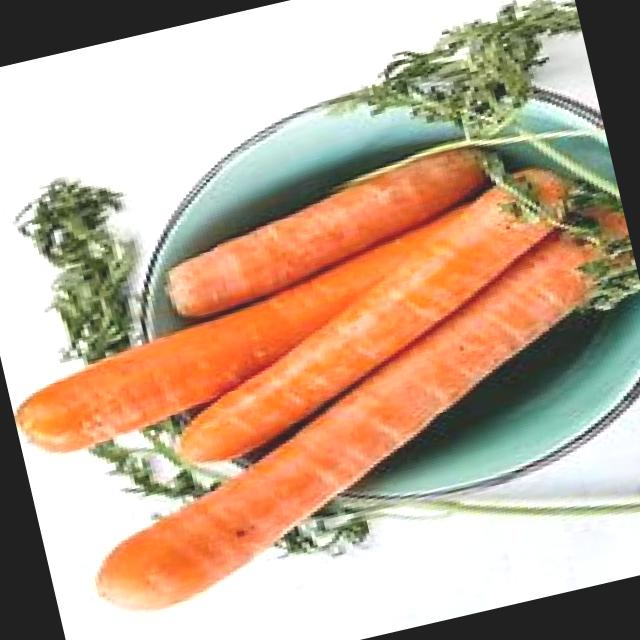carrot: (47, 227, 640, 620), (133, 162, 613, 474), (0, 204, 487, 452), (153, 139, 511, 319)
